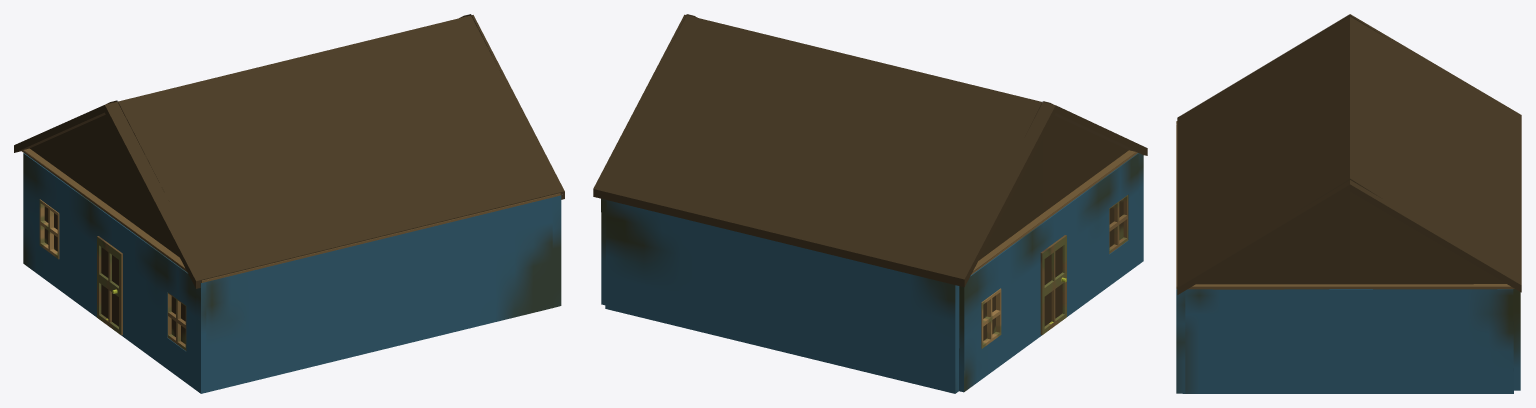
File: Casa 1 sin puzzle.fbx
The picture shows the model from 3 angles, left to right: view 1: azimuth 30°, elevation 25°; view 2: azimuth 150°, elevation 25°; view 3: azimuth 270°, elevation 25°; orthographic projection. The views are drawn at different scales.
Parts seen in each view (by area): view 1: Cube.008, Cube.003, Cube.004, Cube.005; view 2: Cube.008, Cube.003, Cube.004, Cube.005; view 3: Cube.008, Cube.003, Cube.002, Cube.005.
Boxes of the visible parts, x1,y1,x2,y2 form: Cube.008: (14, 15, 564, 288); Cube.003: (23, 153, 561, 393); Cube.004: (23, 100, 203, 281); Cube.005: (21, 148, 560, 282); Cube.008: (593, 14, 1147, 287); Cube.003: (601, 153, 1143, 393); Cube.004: (972, 101, 1133, 272); Cube.005: (971, 150, 1137, 274); Cube.008: (1177, 14, 1521, 294); Cube.003: (1176, 289, 1520, 393); Cube.002: (1176, 178, 1514, 289); Cube.005: (1176, 121, 1513, 288).
Size of the model in its own units: 13141 by 7632 by 11226.
Materials: 1 (1 with a texture image).
